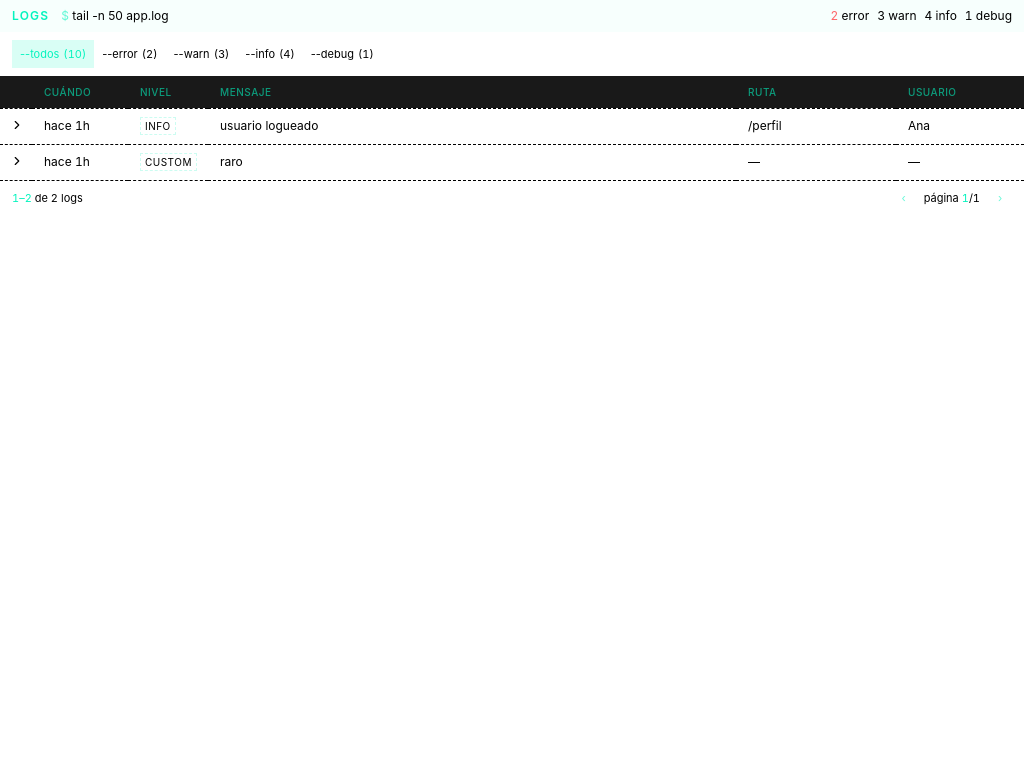
it: LogsClient › lists logs with the level counts and expands details
Expected: the text "tail -n 50 app.log" is shown, [72, 8, 169, 23]
Expected: the element titled "2 error" is shown, [830, 8, 869, 24]
What coordinates should you click on to do the following:
click the text titled "usuario logueado"
I would click on:
 (269, 126)
Its box is [220, 118, 318, 133].
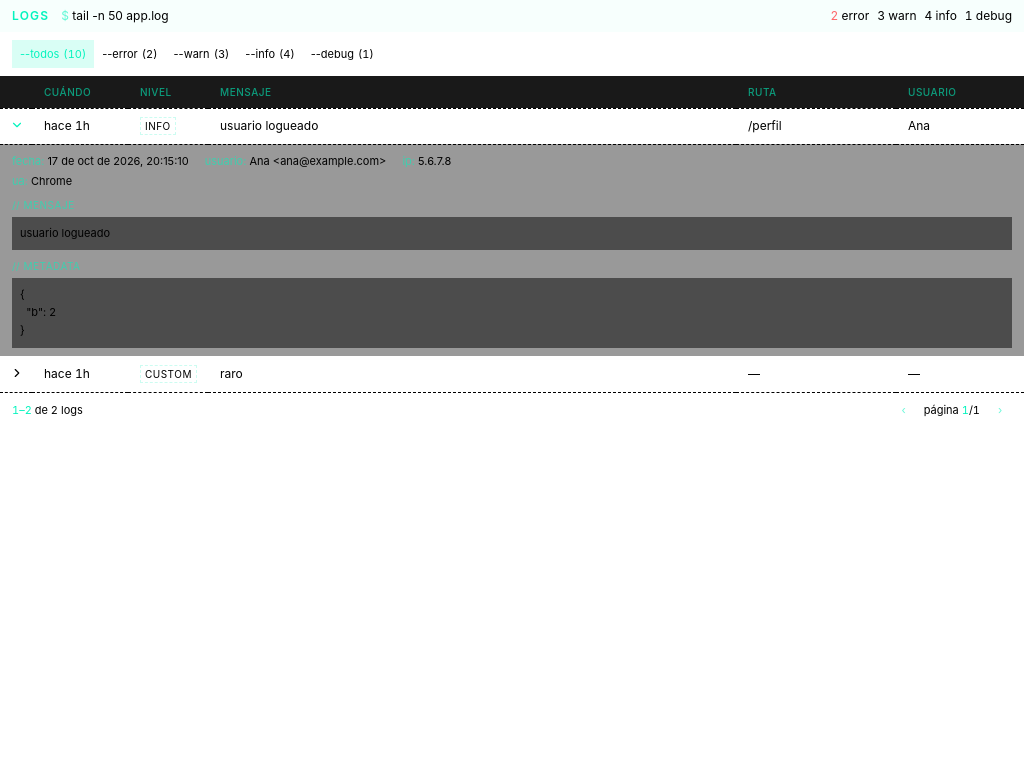
Now the text "{ \"b\": 2 }" is shown, box [12, 278, 1012, 348]
Now the text "ip: 5.6.7.8" is shown, box [402, 152, 451, 168]
Now the text "ua: Chrome" is shown, box [12, 174, 72, 188]
What coordinates should you click on to do the following:
click the button named "Ver detalles de raro" in the row of "custom"
I would click on:
 (17, 373)
Its box is [8, 364, 26, 382].
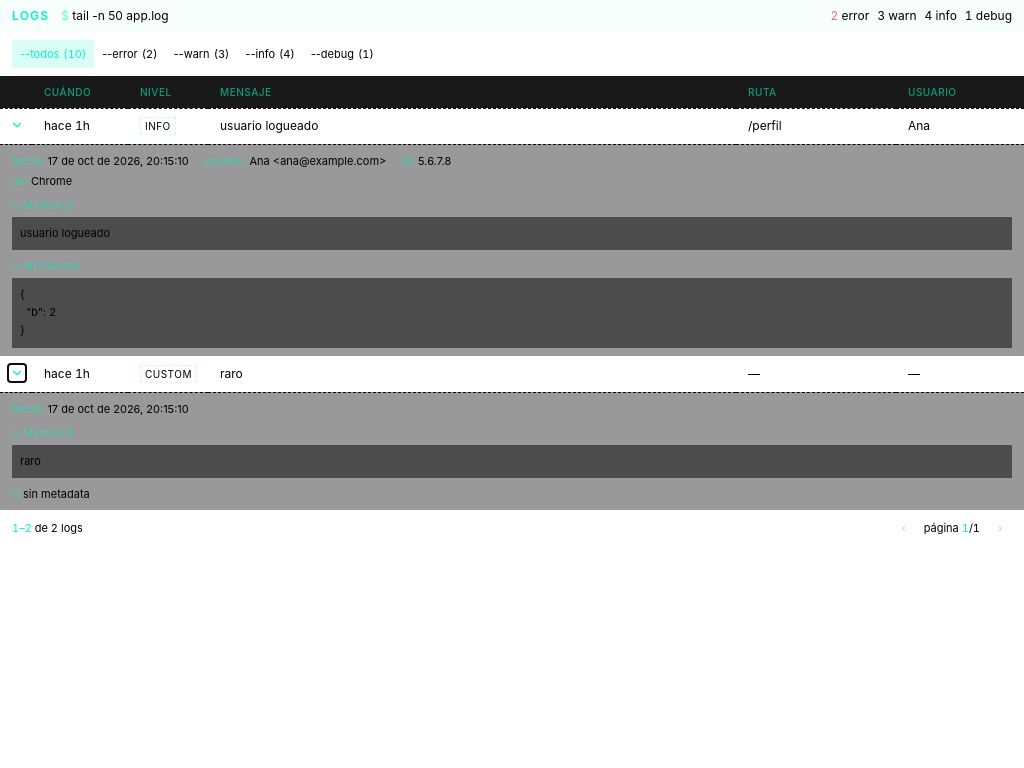
Now the text "sin metadata" is shown, box [23, 487, 90, 501]
What coordinates should you click on to do the following:
click the text titled "usuario logueado" next to "/perfil"
I would click on:
 (269, 126)
Its box is [220, 118, 318, 133].
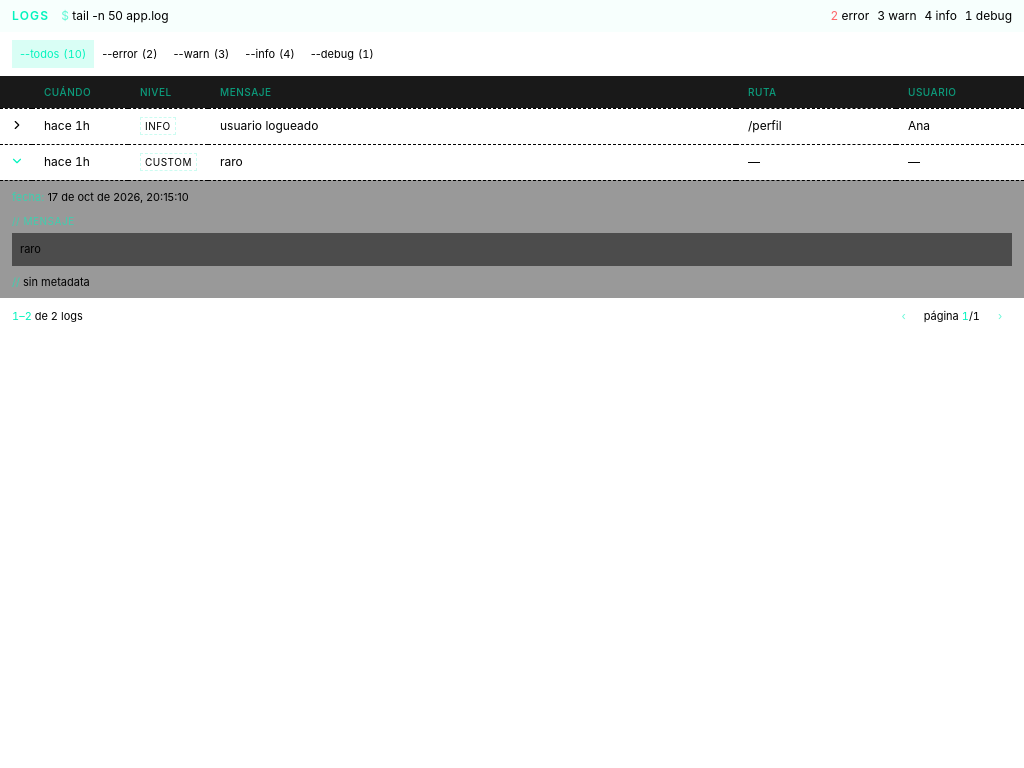
Now the row with id "log-details-l1" is gone
